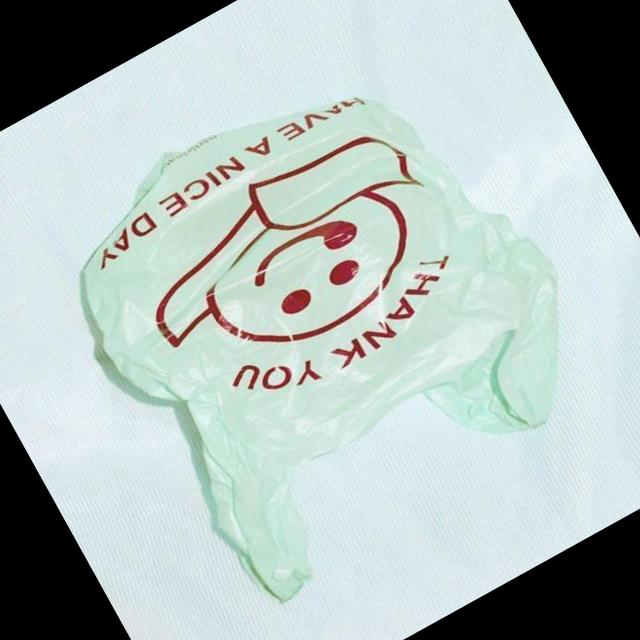KantongPlastik: (30, 16, 634, 624)
